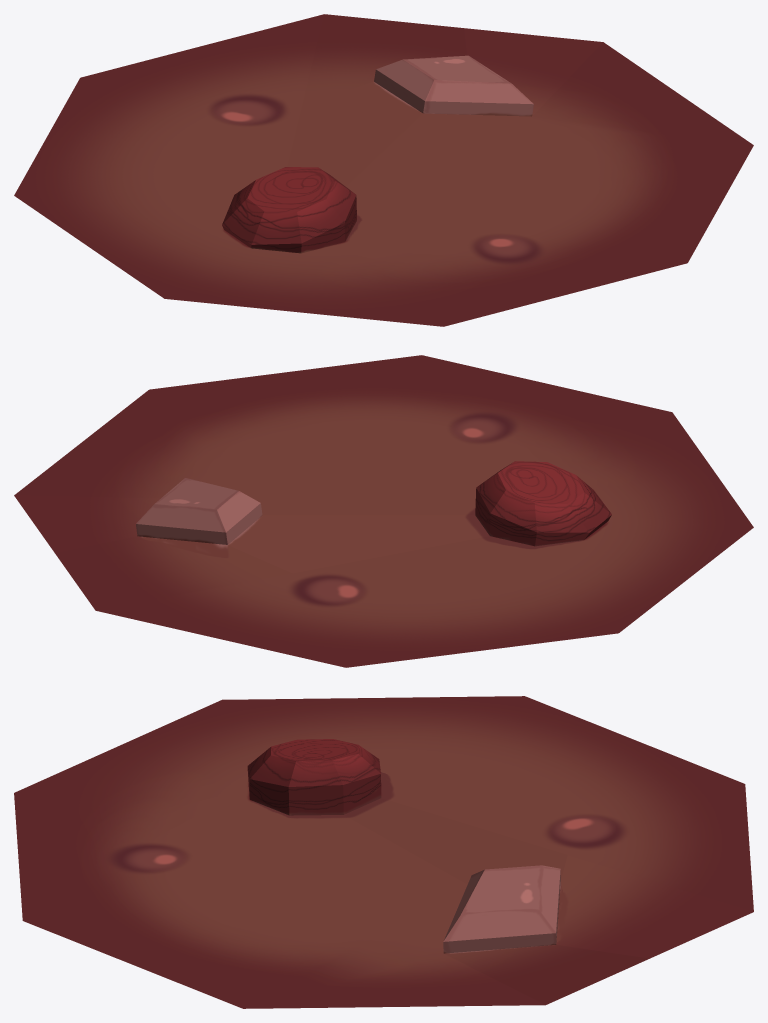
The model's file is sopa.fbx.
The picture shows the model from 3 angles, top to bottom: view 1: azimuth 30°, elevation 25°; view 2: azimuth 150°, elevation 25°; view 3: azimuth 270°, elevation 25°; orthographic projection. The views are drawn at different scales.
Visible parts, largest first — view 1: Cylinder.005; view 2: Cylinder.005; view 3: Cylinder.005.
Part boxes in pixels (x1,y1,x2,y2): Cylinder.005: (14,14,753,326); Cylinder.005: (14,355,753,667); Cylinder.005: (14,696,753,1008).
Size of the model in its own units: 25.78 by 2.14 by 25.78.
